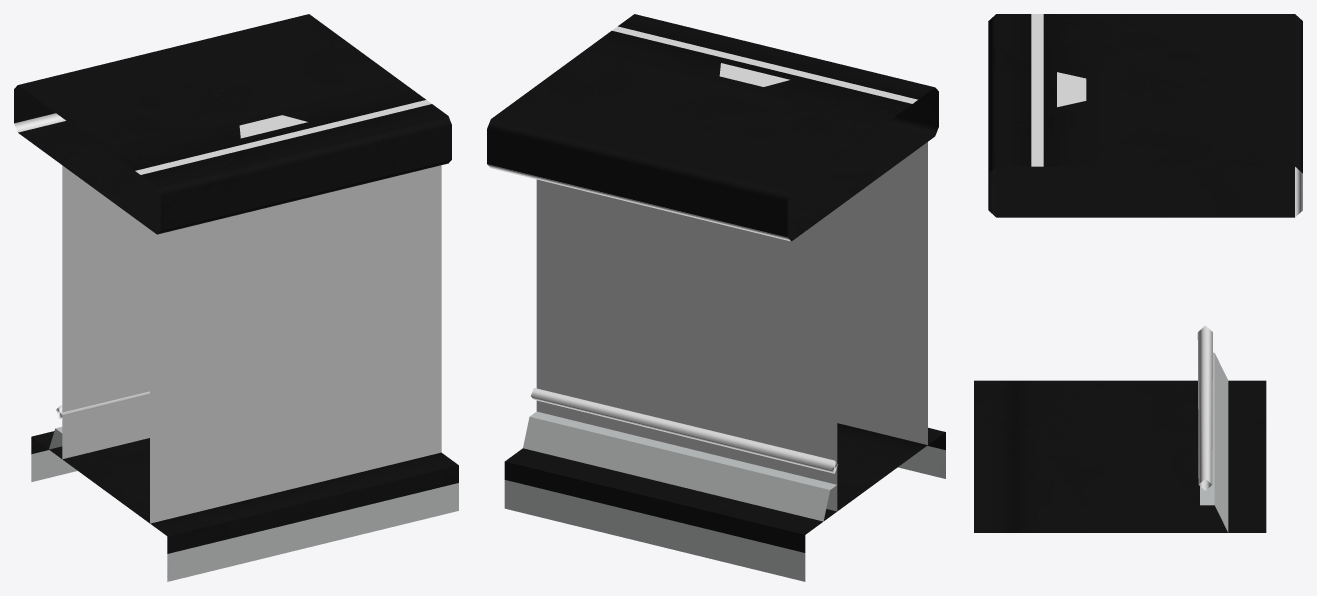
File: Mesh_Bar_1x.fbx
3 views of the same model, side by side, from view 1: azimuth 30°, elevation 25°; view 2: azimuth 150°, elevation 25°; view 3: azimuth 270°, elevation 25° (orthographic). The views are drawn at different scales.
Parts seen in each view (by area): view 1: Bar_1x; view 2: Bar_1x; view 3: Bar_1x.
Boxes of the visible parts, x1=… form: Bar_1x: x1=14, y1=14, x2=458, y2=581; Bar_1x: x1=487, y1=14, x2=945, y2=581; Bar_1x: x1=974, y1=14, x2=1302, y2=532.
Size of the model in its own units: 1 by 1.27 by 0.9111.
